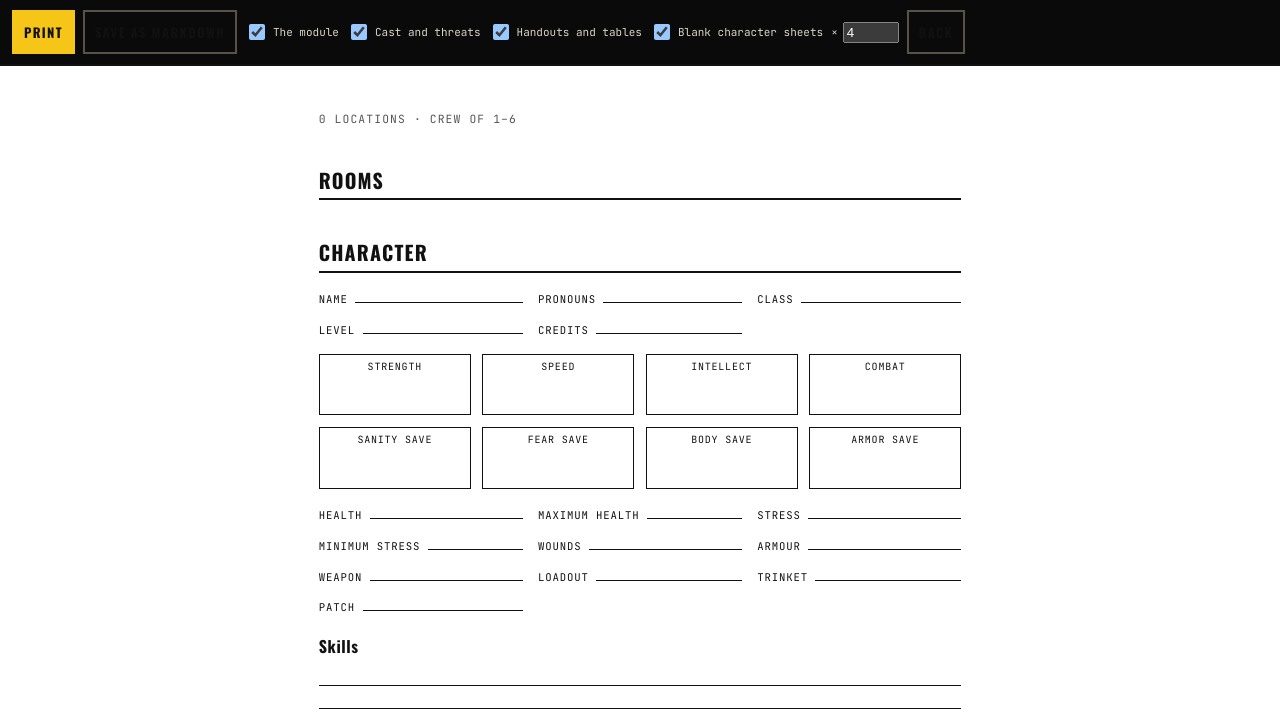
Test case: the printed pack › drops a section when it is switched off
Expected: the heading "Rooms" is shown, [319,166,961,200]
Click the checkbox labelled "The module" at (257, 32), box [249,24,265,40]
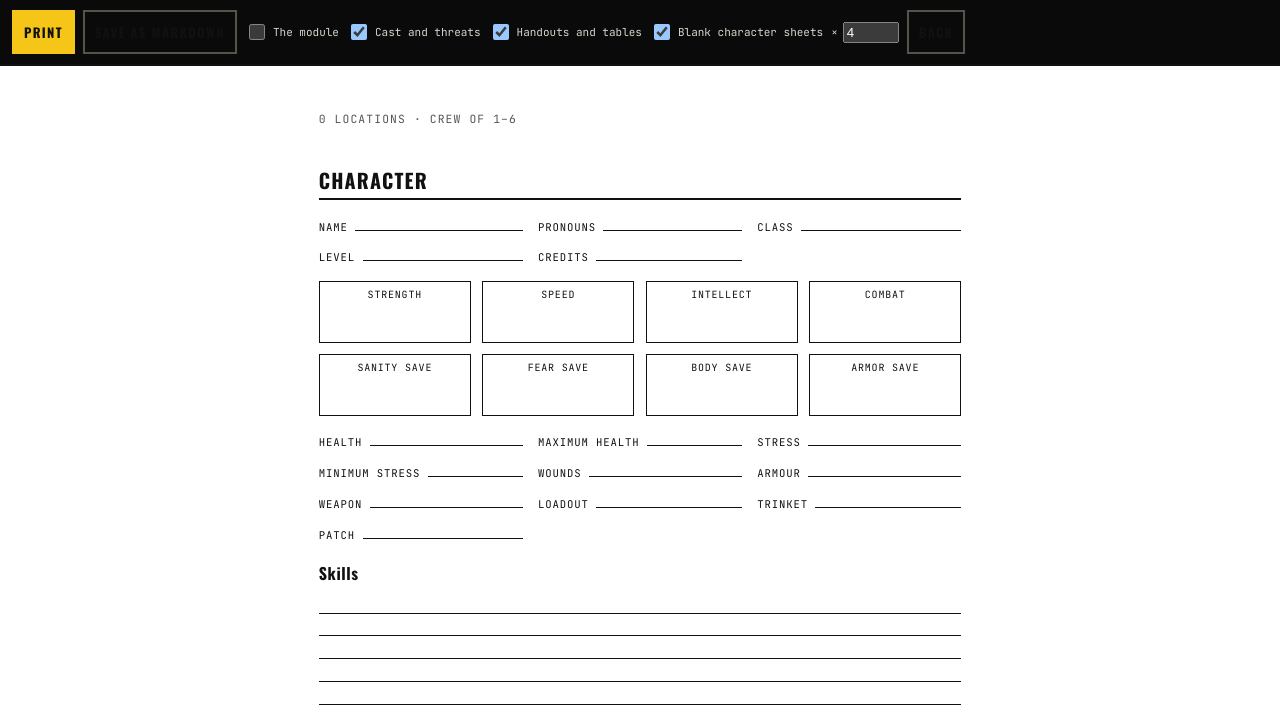
Now the heading "Rooms" is gone
